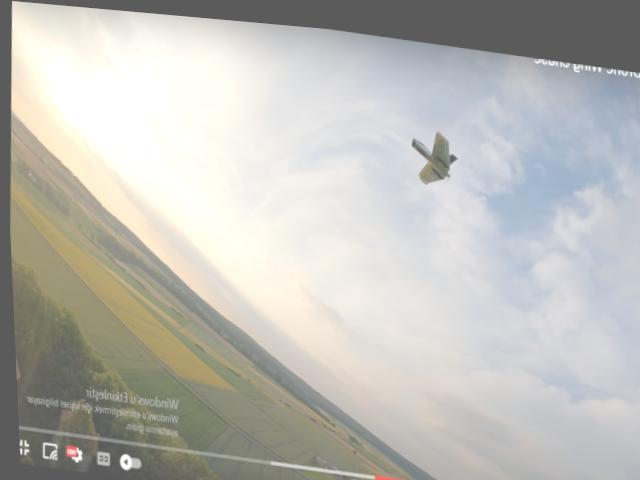plane: (407, 118, 458, 180)
